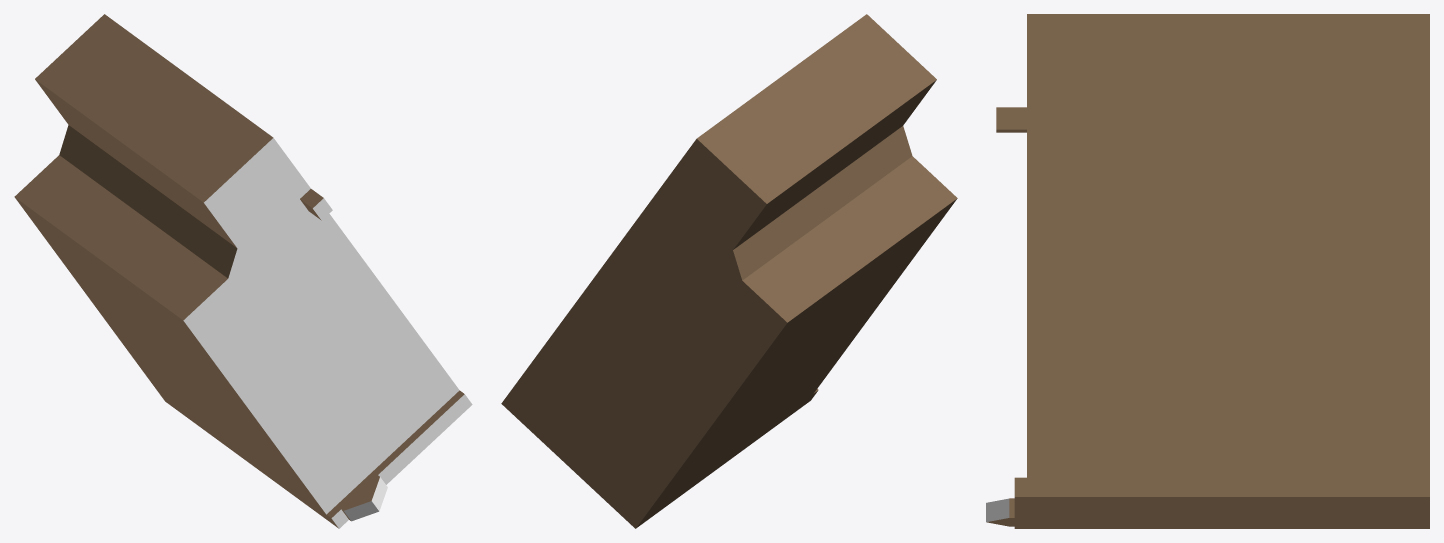
3 views of the same model, side by side, from view 1: azimuth 30°, elevation 25°; view 2: azimuth 150°, elevation 25°; view 3: azimuth 270°, elevation 25° (orthographic). The views are drawn at different scales.
Visible parts, largest first — view 1: City_PC-08725; view 2: City_PC-08725; view 3: City_PC-08725.
Boxes of the visible parts, bbox=[...] form: City_PC-08725: bbox=[14, 14, 472, 528]; City_PC-08725: bbox=[501, 14, 957, 528]; City_PC-08725: bbox=[986, 14, 1429, 528].
Size of the model in its own units: 1326 by 1795 by 1504.
